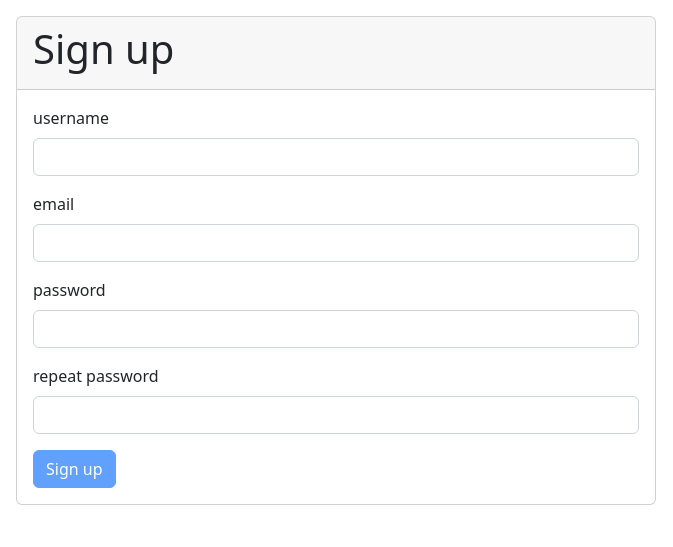
Sign up page › Interactions › displays Incorrect password for password
The image size is (673, 547).
Type "user1" into the field labelled "username" at (336, 157), box [33, 138, 639, 176]
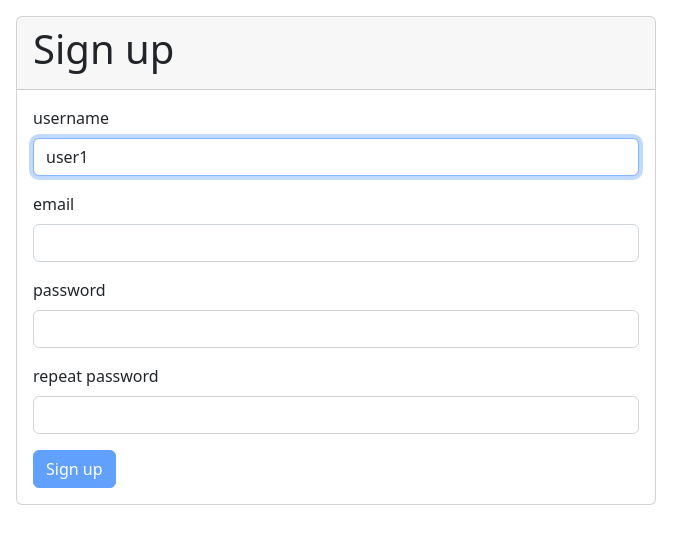
Type "user1@gmail.com" into the field labelled "email" at (336, 243), box [33, 224, 639, 262]
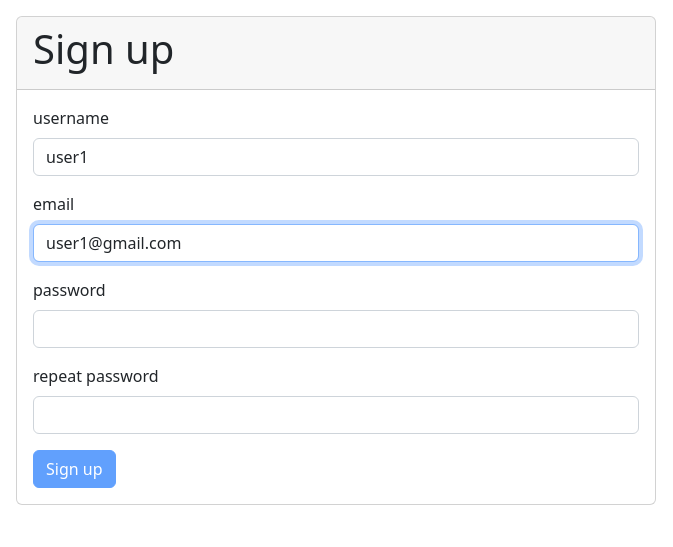
Type "P4ssword" into the password field labelled "password" at (336, 329), box [33, 310, 639, 348]
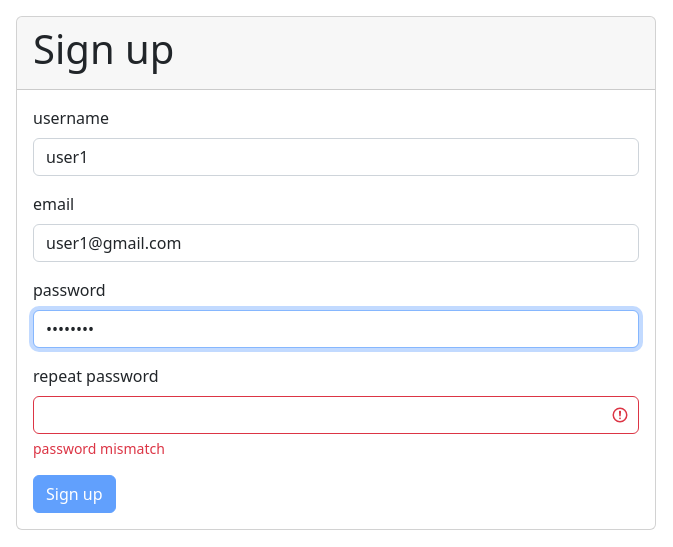
Type "P4ssword" into the password field labelled "repeat password" at (336, 415), box [33, 396, 639, 434]
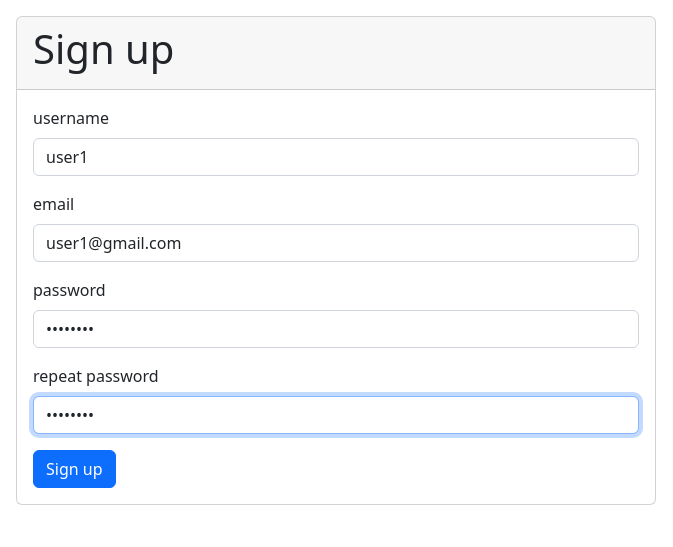
Click the button "Sign up" at (74, 469), box [33, 450, 116, 488]
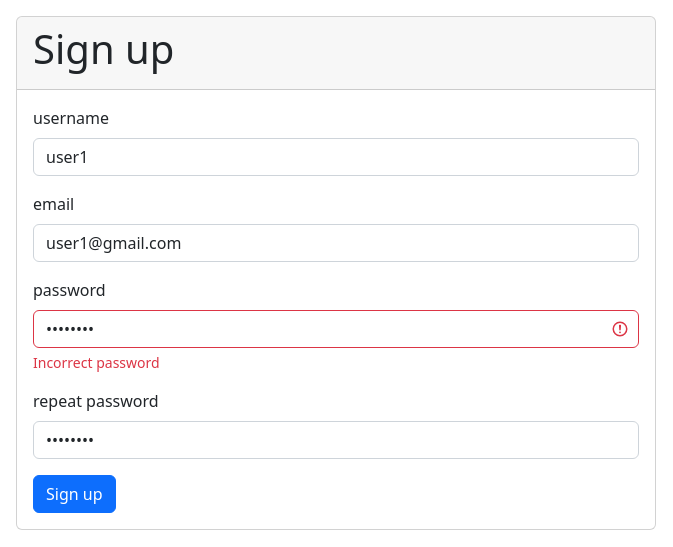
Result: the text "Incorrect password" is shown at [33, 353, 160, 372]
